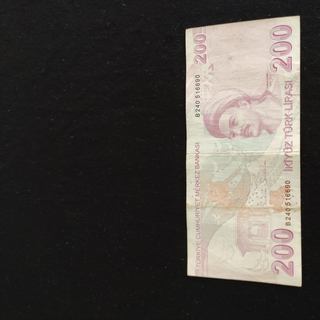200TLBack: (184, 15, 303, 287)
